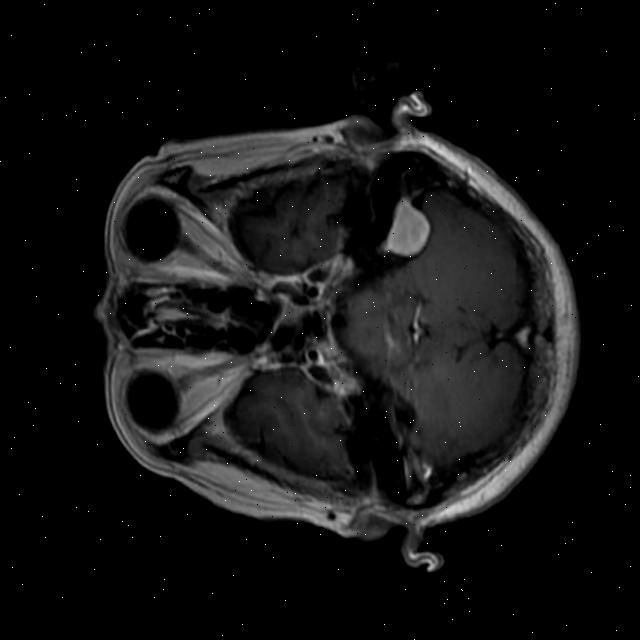Meningioma: (371, 191, 435, 262)
